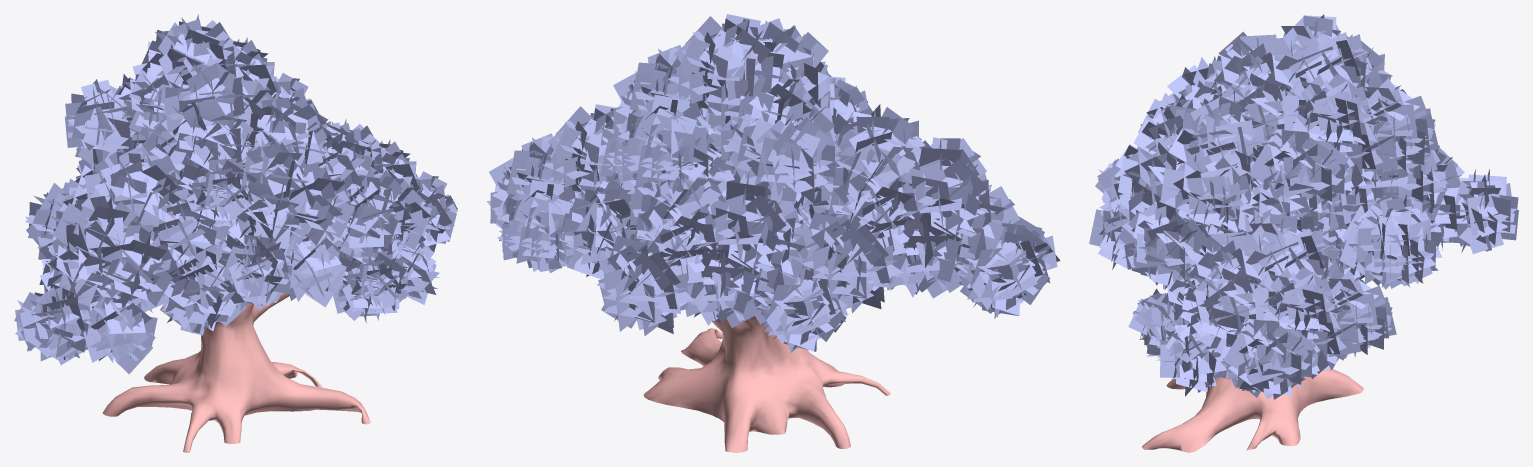
Rendered from Tree.fbx.
3 renders of one model, left to right at view 1: azimuth 30°, elevation 25°; view 2: azimuth 150°, elevation 25°; view 3: azimuth 270°, elevation 25°, orthographic. The views are drawn at different scales.
Parts seen in each view (by area): view 1: wood_low; view 2: wood_low; view 3: wood_low.
Part boxes in pixels (x1=…): wood_low: x1=14, y1=14, x2=457, y2=452; wood_low: x1=487, y1=14, x2=1060, y2=452; wood_low: x1=1089, y1=14, x2=1518, y2=452.
Size of the model in its own units: 21230 by 15839 by 16153.
